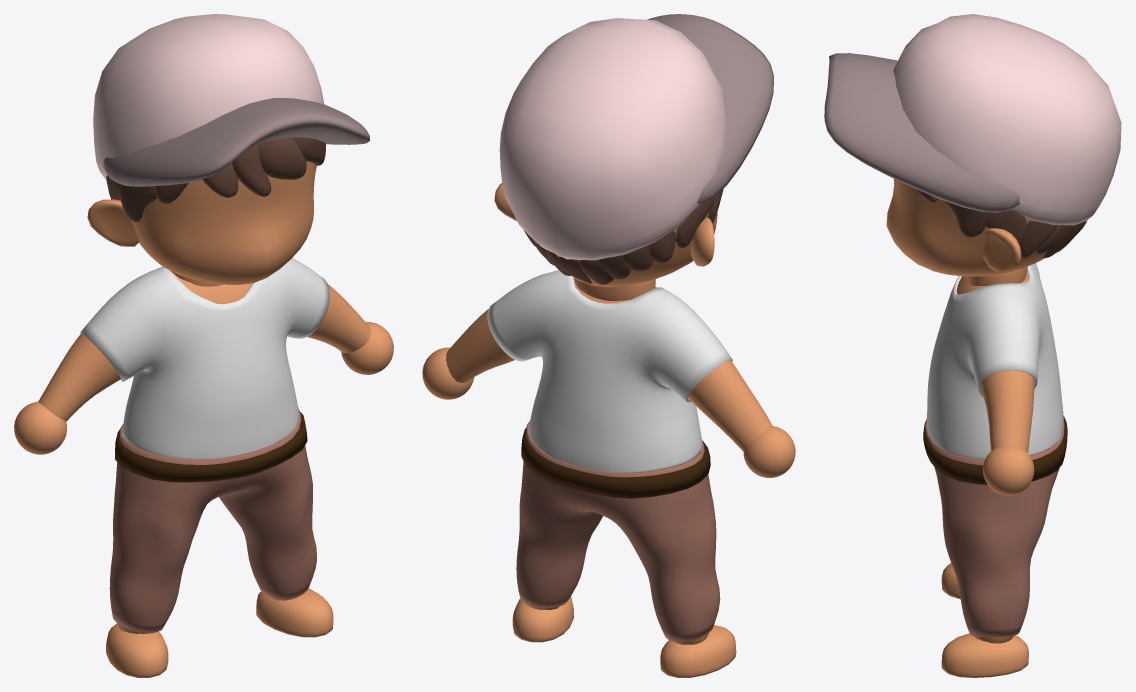
File: player_v3.3.fbx
3 views of the same model, side by side, from view 1: azimuth 30°, elevation 25°; view 2: azimuth 150°, elevation 25°; view 3: azimuth 270°, elevation 25° (orthographic). The views are drawn at different scales.
Visible parts, largest first — view 1: Shirt, Pants, Hat_Top, Head, Hat_Front, Retopo_Romp.001, Retopo_Hair_00, Feet, Belt, Hand, Ears; view 2: Hat_Top, Shirt, Pants, Hat_Front, Retopo_Romp.001, Feet, Belt, Retopo_Hair_00, Hand, Head, Ears, Neck; view 3: Hat_Top, Shirt, Pants, Hat_Front, Head, Retopo_Romp.001, Feet, Retopo_Hair_00, Hand, Belt, Ears, Neck.
Boxes of the visible parts, x1,y1,x2,y2 form: Shirt: (80,258,329,459); Pants: (109,407,316,632); Hat_Top: (93,14,324,178); Head: (119,161,316,284); Hat_Front: (103,98,369,186); Retopo_Romp.001: (38,272,370,633); Retopo_Hair_00: (106,137,325,222); Feet: (106,588,333,677); Belt: (115,411,307,482); Hand: (14,322,393,454); Ears: (87,199,139,246); Hat_Top: (499,18,727,260); Shirt: (487,270,732,472); Pants: (516,421,720,641); Hat_Front: (647,14,773,204); Retopo_Romp.001: (446,278,772,644); Feet: (512,596,736,677); Belt: (521,427,710,498); Retopo_Hair_00: (524,189,723,284); Hand: (422,347,795,477); Head: (545,205,717,287); Ears: (494,183,714,266); Neck: (574,278,655,301); Hat_Top: (893,14,1121,225); Shirt: (927,263,1063,459); Pants: (925,418,1064,636); Hat_Front: (824,53,1019,212); Head: (886,179,1059,276); Retopo_Romp.001: (956,271,1034,643); Feet: (941,563,1028,677); Retopo_Hair_00: (914,188,1087,258); Hand: (983,446,1034,495); Belt: (923,416,1067,484); Ears: (983,228,1021,272); Neck: (967,266,1027,286).
Size of the model in its own units: 180 by 287 by 128.
